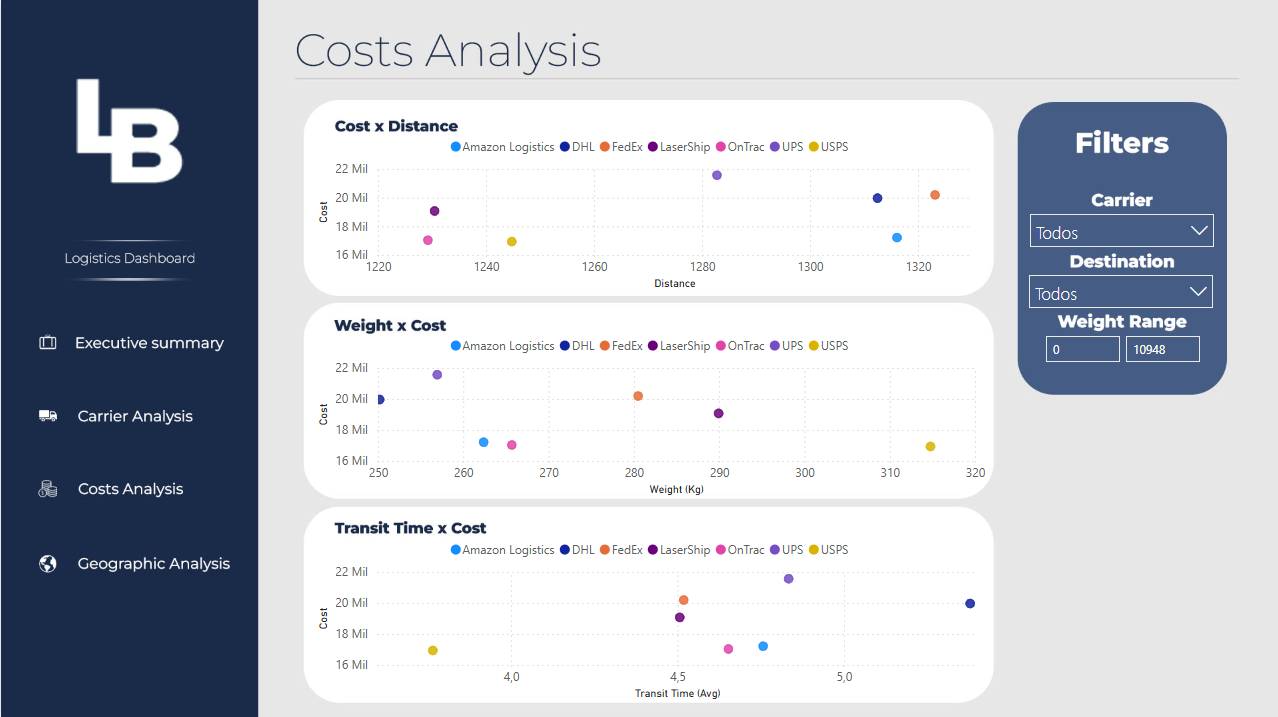

The page's visual inventory and layout, read from the dashboard file:
{"tool":"powerbi","page":{"name":"Costs Analysis","canvas":[1280,720],"ordinal":2},"visuals":[{"type":"scatterChart","fields":{"Series":["logistics_shipments_dataset.Carrier"],"X":["Avg(logistics_shipments_dataset.Distance_miles)"],"Y":["logistics_shipments_dataset.Custo_medio"]},"box":[312,127,677,167],"z":0},{"type":"scatterChart","fields":{"Series":["logistics_shipments_dataset.Carrier"],"Y":["logistics_shipments_dataset.Custo_medio"],"X":["Avg(logistics_shipments_dataset.Weight_kg)"]},"box":[312,326,677,174],"z":1000},{"type":"scatterChart","fields":{"Series":["logistics_shipments_dataset.Carrier"],"Y":["logistics_shipments_dataset.Custo_medio"],"X":["Avg(logistics_shipments_dataset.Transit_Time)"]},"box":[312,530,677,174],"z":2000},{"type":"pageNavigator","box":[21,317,218,50],"z":3000},{"type":"pageNavigator","box":[21,388,218,50],"z":4000},{"type":"pageNavigator","box":[24,540,218,50],"z":5000},{"type":"slicer","fields":{"Values":["logistics_shipments_dataset.Carrier"]},"box":[1019,204,204,47],"z":6000},{"type":"slicer","fields":{"Values":["logistics_shipments_dataset.Destination"]},"box":[1018.5,265.4,203.8,67.7],"z":7000},{"type":"slicer","fields":{"Values":["logistics_shipments_dataset.Weight_kg"]},"box":[1031.5,326.2,178.5,47.7],"z":8000}]}

Visuals, with their boxes on the page's 1280x720 design canvas (x1, y1, x2, y2). These are canvas units, not pixel positions in the 1278x717 screenshot, which may show the page scaled, cropped or inside an application window:
scatterChart - logistics_shipments_dataset.Carrier x Avg(logistics_shipments_dataset.Distance_miles): Rect(312, 127, 989, 294)
scatterChart - logistics_shipments_dataset.Carrier x logistics_shipments_dataset.Custo_medio: Rect(312, 326, 989, 500)
scatterChart - logistics_shipments_dataset.Carrier x logistics_shipments_dataset.Custo_medio: Rect(312, 530, 989, 704)
pageNavigator: Rect(21, 317, 239, 367)
pageNavigator: Rect(21, 388, 239, 438)
pageNavigator: Rect(24, 540, 242, 590)
slicer - logistics_shipments_dataset.Carrier: Rect(1019, 204, 1223, 251)
slicer - logistics_shipments_dataset.Destination: Rect(1018, 265, 1222, 333)
slicer - logistics_shipments_dataset.Weight_kg: Rect(1032, 326, 1210, 374)
